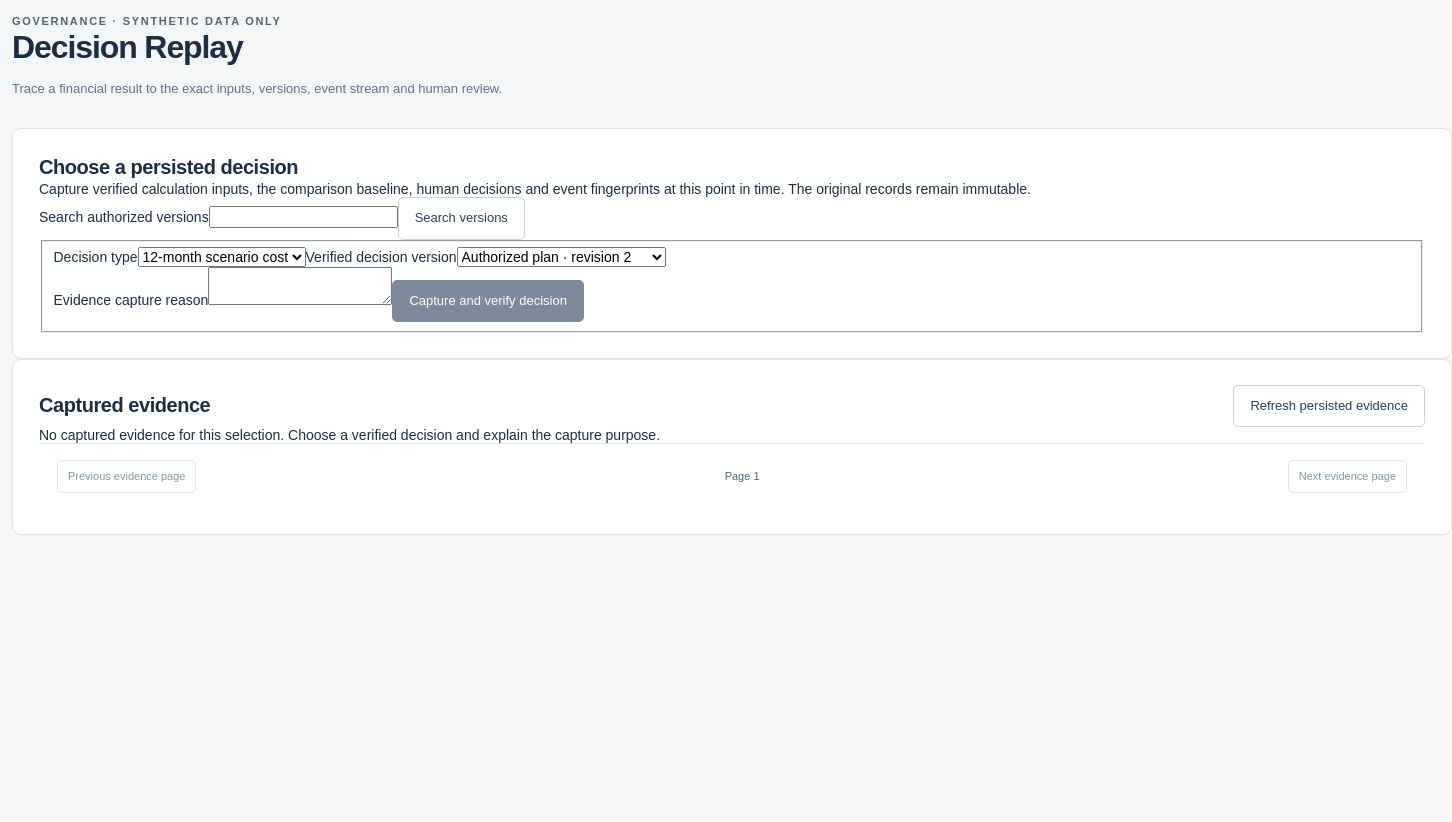
it: retains capture input after a persistence failure
In the text box labelled "Evidence capture reason": {"x": 300, "y": 286} [208,267,392,305], type "A bounded capture purpose"
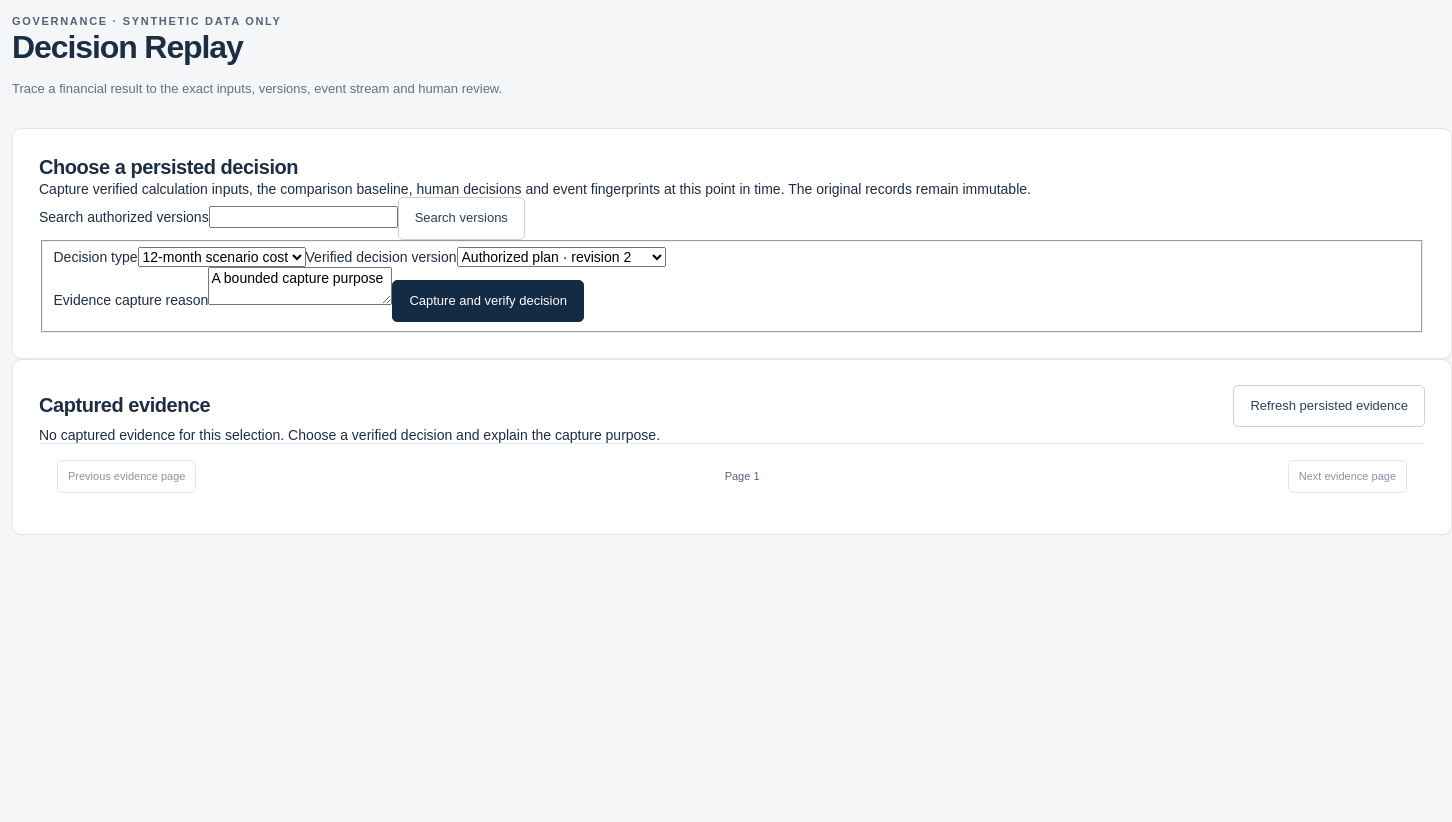
Click the button "Capture and verify decision": {"x": 488, "y": 301} [392,280,584,322]
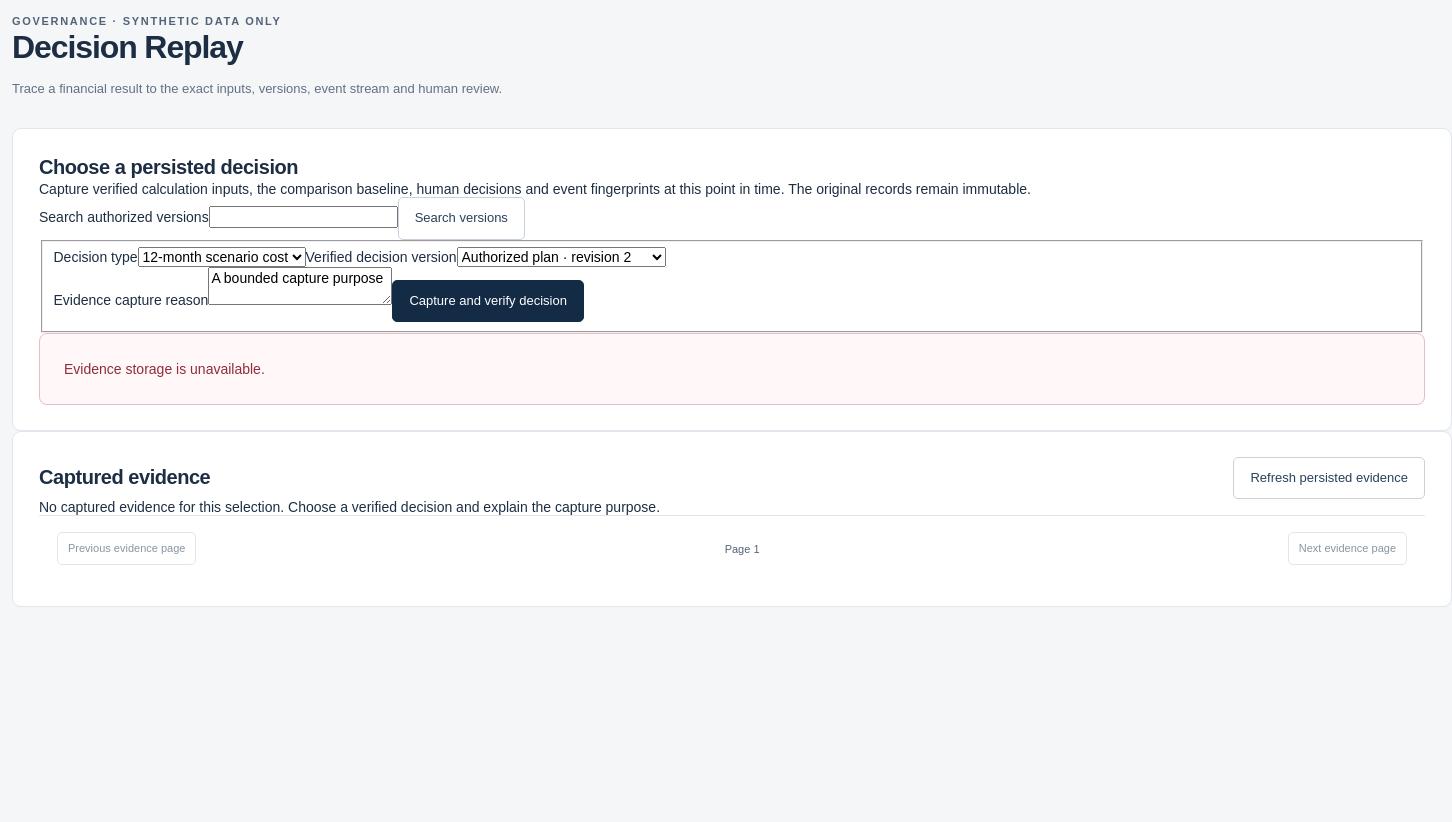
Check: the dropdown labelled "Verified decision version" shows "Authorized plan · revision 2", box [456,247,666,267]
Check: the message reads "Evidence storage is unavailable.", box [64,360,265,376]
